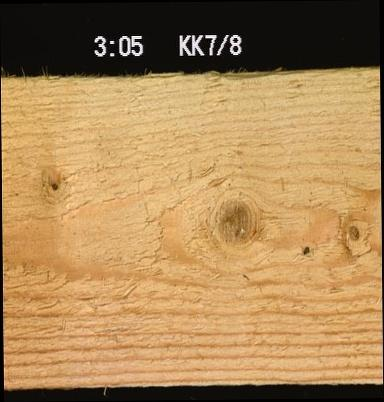small_knot: (41, 174, 66, 195), (296, 237, 314, 261)
sound_knot: (211, 192, 259, 245), (337, 215, 375, 259)
split: (142, 70, 226, 82)
